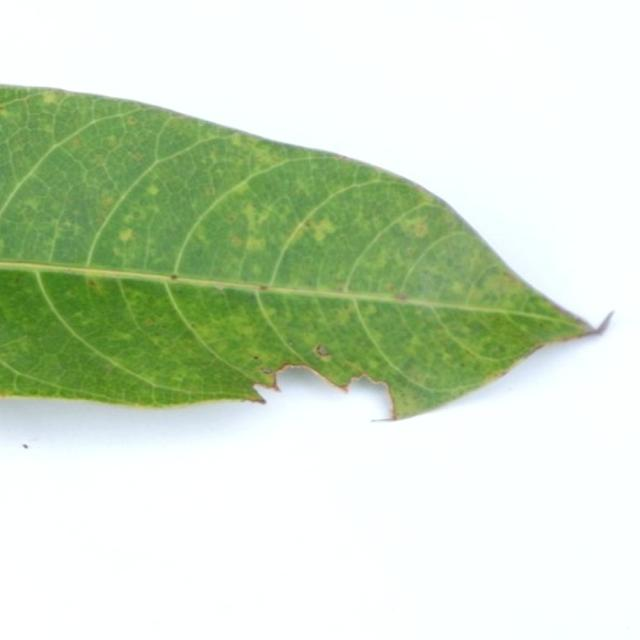Mango: (0, 86, 588, 417)
Powdery_Mildew: (461, 315, 526, 362), (307, 213, 344, 252), (115, 209, 152, 242), (240, 203, 263, 224), (244, 234, 267, 253), (412, 220, 429, 237), (22, 196, 41, 211), (117, 228, 134, 243), (360, 305, 377, 319), (41, 91, 58, 104), (349, 360, 366, 373), (100, 195, 115, 209), (450, 282, 466, 294), (129, 150, 144, 162), (502, 272, 518, 283), (146, 184, 160, 196), (70, 136, 84, 147), (230, 133, 244, 144), (316, 345, 330, 356), (204, 185, 216, 197), (230, 235, 242, 246), (88, 279, 100, 290), (442, 352, 454, 363), (394, 292, 408, 301), (335, 279, 347, 289), (143, 317, 155, 326), (126, 116, 137, 125), (213, 284, 227, 291), (0, 106, 9, 116), (13, 275, 22, 285), (226, 214, 235, 222), (388, 284, 396, 291), (259, 285, 268, 291), (305, 220, 312, 227), (170, 274, 178, 280), (189, 323, 197, 329)
